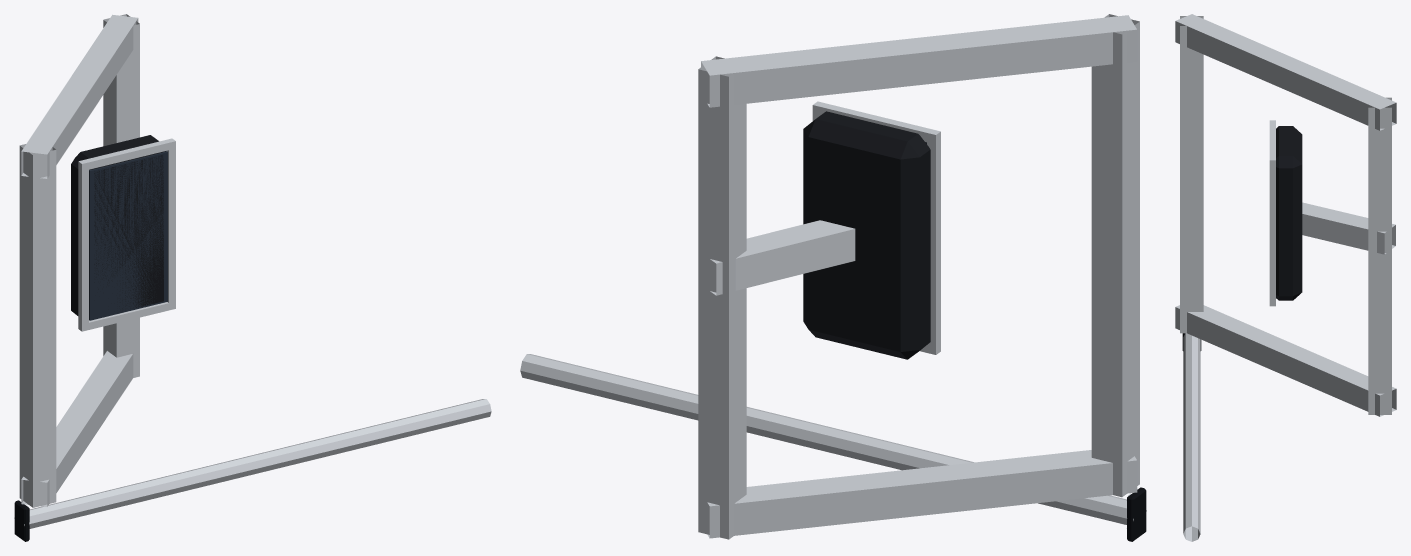
Rendered from mirror_stay_box.glb.
The picture shows the model from 3 angles, left to right: view 1: azimuth 30°, elevation 25°; view 2: azimuth 150°, elevation 25°; view 3: azimuth 270°, elevation 25°; orthographic projection. The views are drawn at different scales.
Parts seen in each view (by area): view 1: mirror_stay_box_chrome, mirror_stay_box_deco_mirror, mirror_stay_box_PADS_chrome, mirror_stay_box_deco_body, mirror_stay_box_PADF_deco_trim; view 2: mirror_stay_box_chrome, mirror_stay_box_deco_body, mirror_stay_box_PADS_chrome, mirror_stay_box_PADF_deco_trim; view 3: mirror_stay_box_chrome, mirror_stay_box_deco_body, mirror_stay_box_PADS_chrome.
Part boxes in pixels (bbox=[...]): mirror_stay_box_chrome: bbox=[19, 14, 175, 507]; mirror_stay_box_deco_mirror: bbox=[89, 151, 167, 320]; mirror_stay_box_PADS_chrome: bbox=[14, 399, 491, 528]; mirror_stay_box_deco_body: bbox=[71, 135, 165, 315]; mirror_stay_box_PADF_deco_trim: bbox=[14, 500, 29, 541]; mirror_stay_box_chrome: bbox=[698, 14, 1139, 539]; mirror_stay_box_deco_body: bbox=[803, 111, 930, 359]; mirror_stay_box_PADS_chrome: bbox=[520, 354, 1146, 524]; mirror_stay_box_PADF_deco_trim: bbox=[1127, 487, 1146, 541]; mirror_stay_box_chrome: bbox=[1175, 14, 1396, 416]; mirror_stay_box_deco_body: bbox=[1276, 126, 1302, 300]; mirror_stay_box_PADS_chrome: bbox=[1183, 333, 1200, 541].
Bounding box in the file's own units: 1 × 0.791 × 0.4707.
